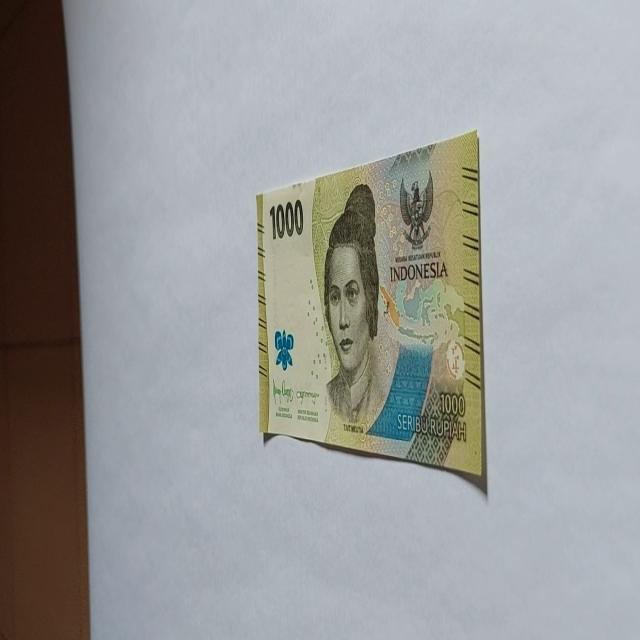seribu rupiah kertas: (256, 128, 487, 494)
